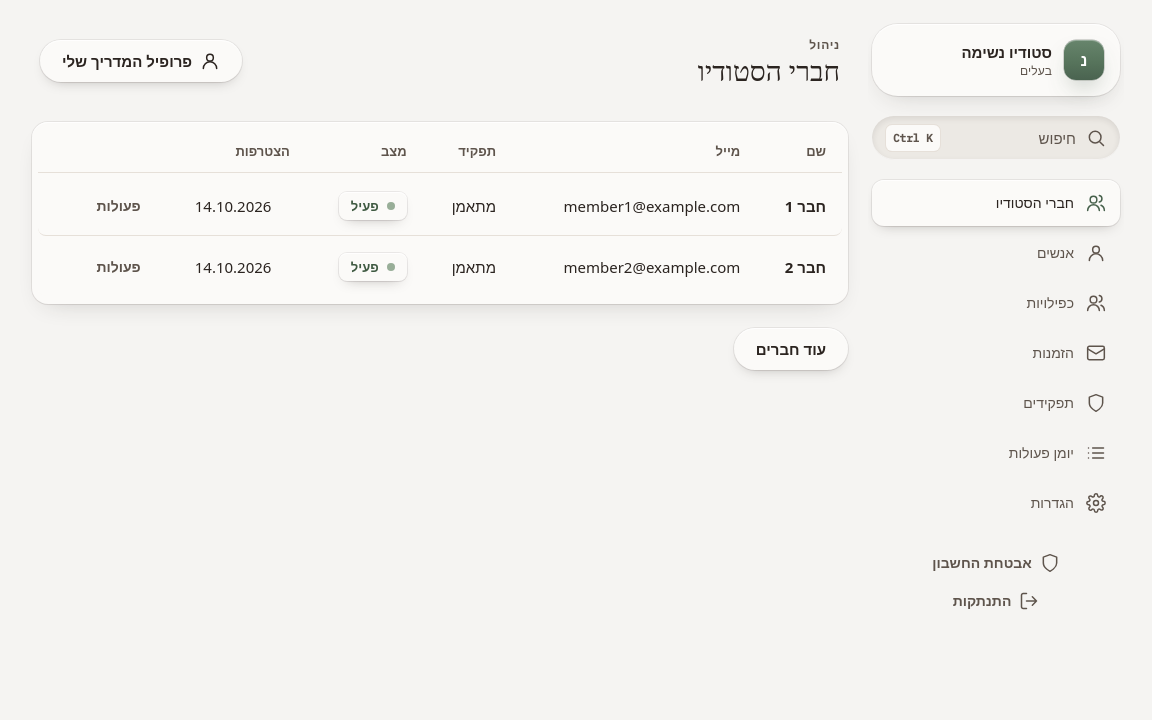
Scenario: the console › loads the next page with the keyset cursor
The image size is (1152, 720).
Click the button "עוד חברים".
click(791, 349)  # box [734,328,848,370]
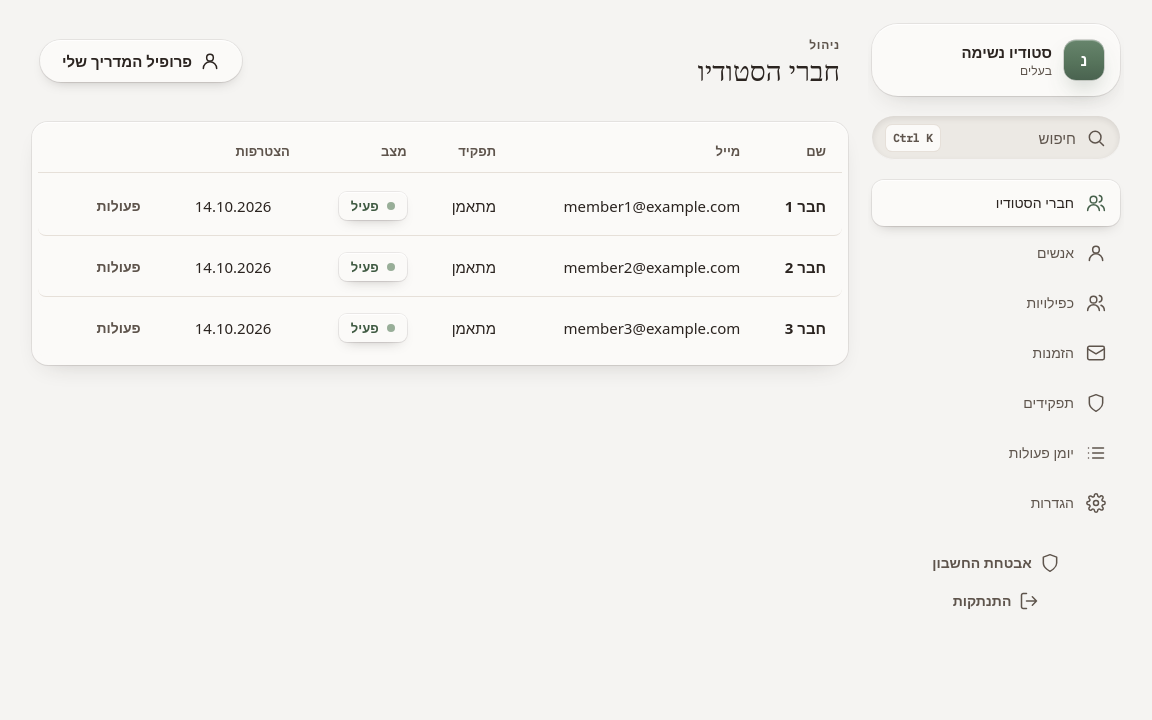
Result: the text "חבר 3" is shown at [756,299,842,357]
Result: the button "עוד חברים" is gone
